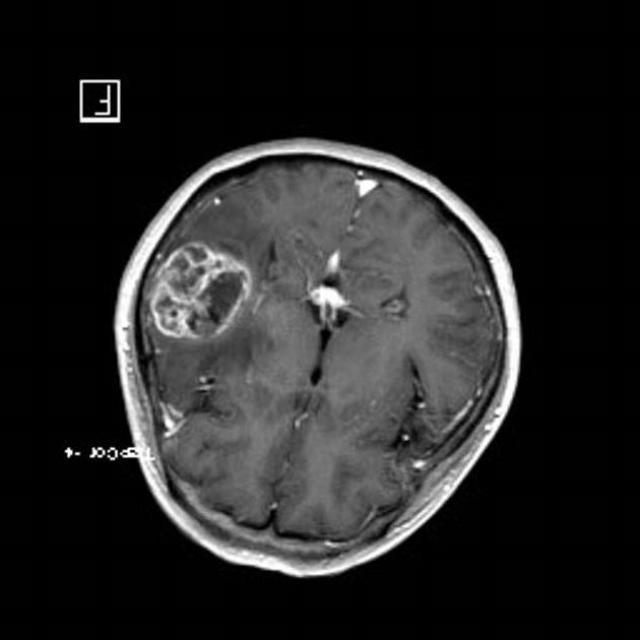Tumor: (141, 239, 260, 351)
